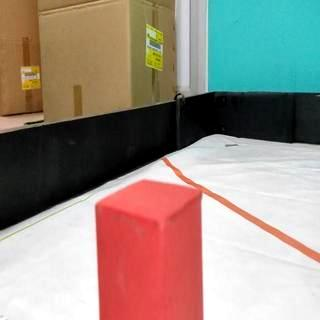redbox: (94, 178, 204, 320)
